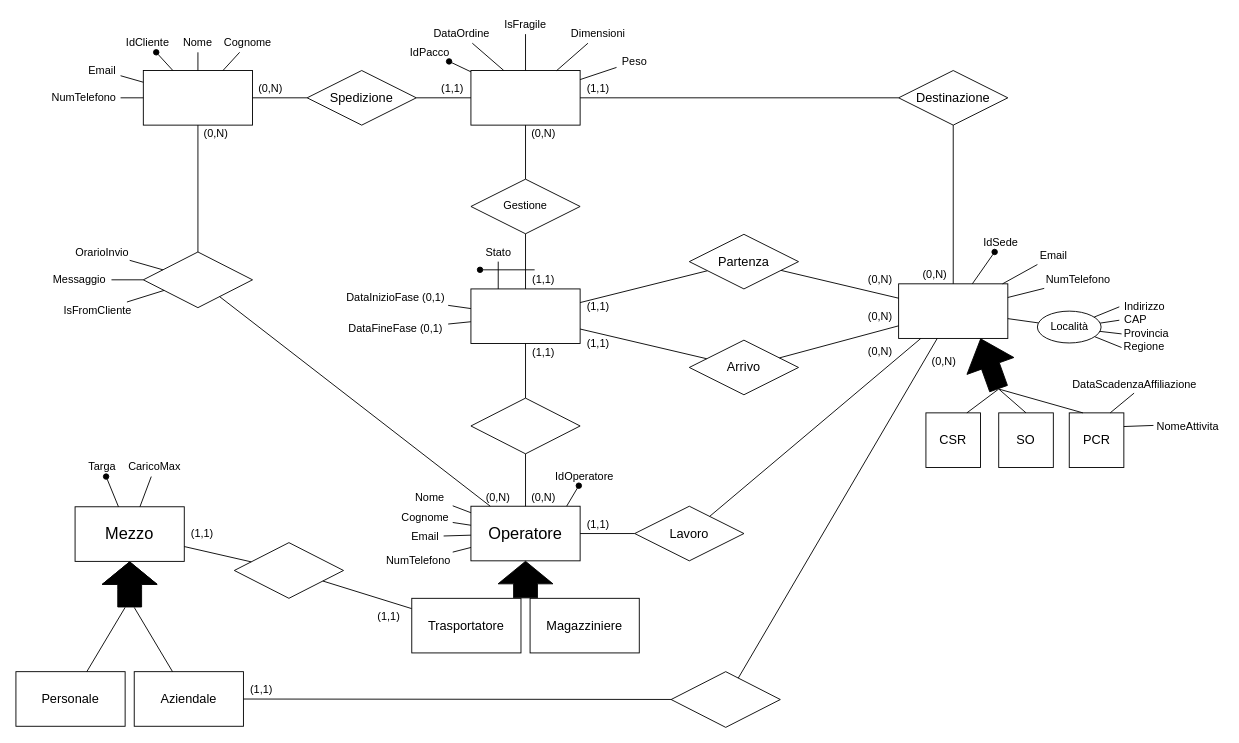
This 1239x743 diagram has some shape labels left out. The shapes that lost their labels are listed below. From the top down, each one's centre as x and y in pixels, then its label:
At (x=197, y=97): "Cliente".
At (x=525, y=97): "Pacco".
At (x=197, y=279): "Supporto".
At (x=525, y=316): "StatoSpedizione".
At (x=953, y=310): "Sede".
At (x=525, y=425): "Incarico".
At (x=288, y=570): "Trasporto".
At (x=725, y=699): "Appartenenza".
